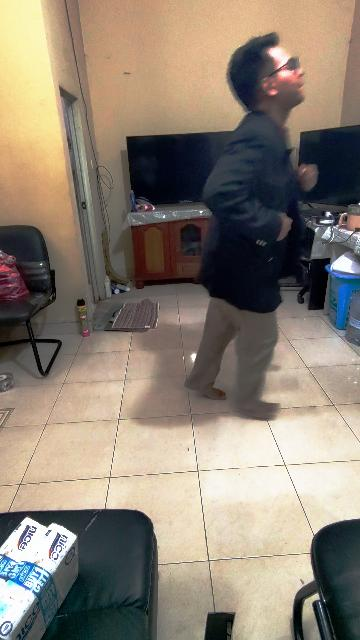berlari: (180, 31, 320, 428)
